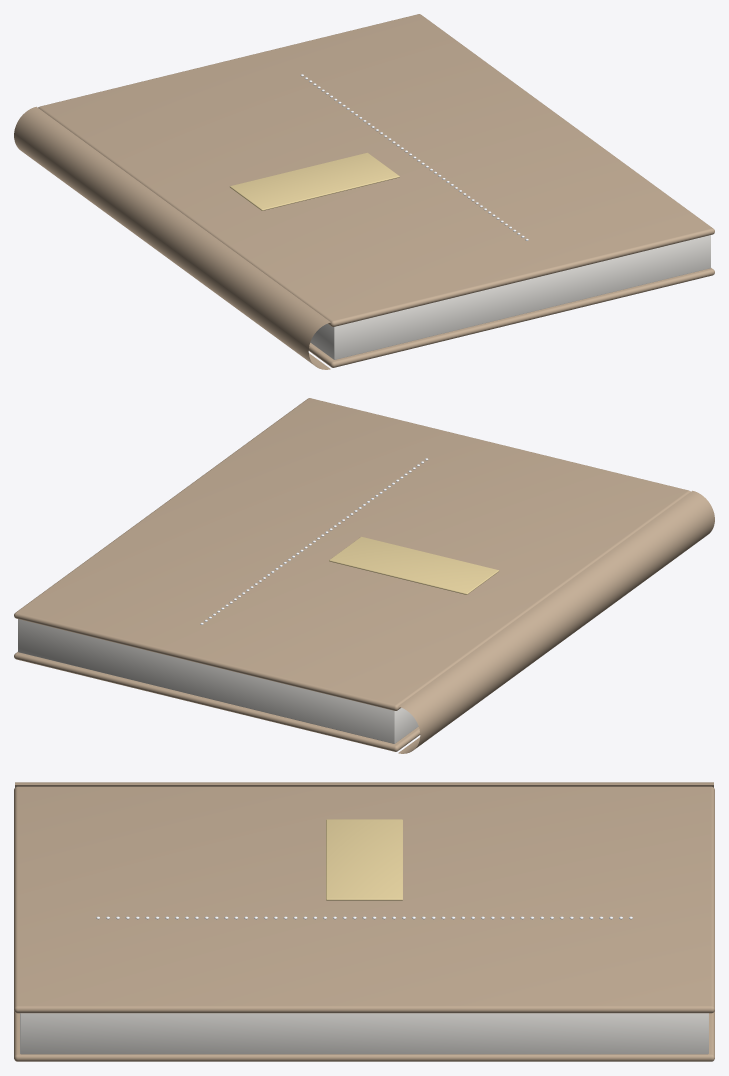
File: swarovski-line--portrait.glb
The picture shows the model from 3 angles, top to bottom: view 1: azimuth 30°, elevation 25°; view 2: azimuth 150°, elevation 25°; view 3: azimuth 270°, elevation 25°; orthographic projection. The views are drawn at different scales.
Parts seen in each view (by area): view 1: CoverFront, Spine, Pages, Plate, CoverBack; view 2: CoverFront, Spine, Pages, Plate, CoverBack; view 3: CoverFront, Pages, Plate, CoverBack, Spine, Crystal.
Part boxes in pixels (x1,y1,x2,y2): CoverFront: (38,14,714,326); Spine: (14,106,330,369); Pages: (310,235,710,359); Plate: (230,152,399,210); CoverBack: (308,268,714,367); CoverFront: (14,398,690,710); Spine: (398,490,714,753); Pages: (18,619,418,743); Plate: (329,536,498,594); CoverBack: (14,652,420,751); CoverFront: (14,786,714,1013); Pages: (20,1013,708,1054); Plate: (326,819,402,900); CoverBack: (14,1011,714,1061); Spine: (15,782,713,787); Crystal: (96,916,632,919).
Bounding box in the file's own units: 0.3179 × 0.0361 × 0.4.
